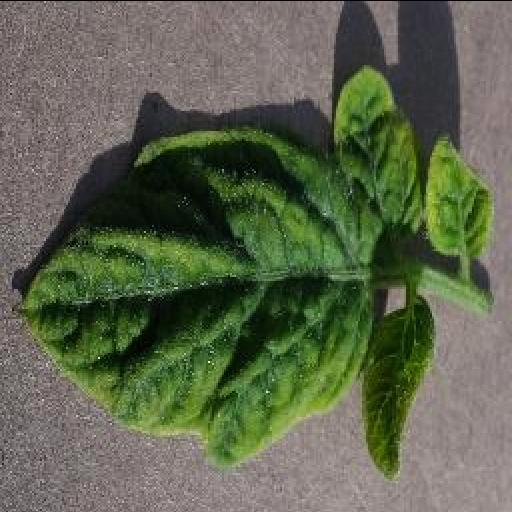disease_tomato: (10, 64, 422, 480), (428, 130, 496, 254)
